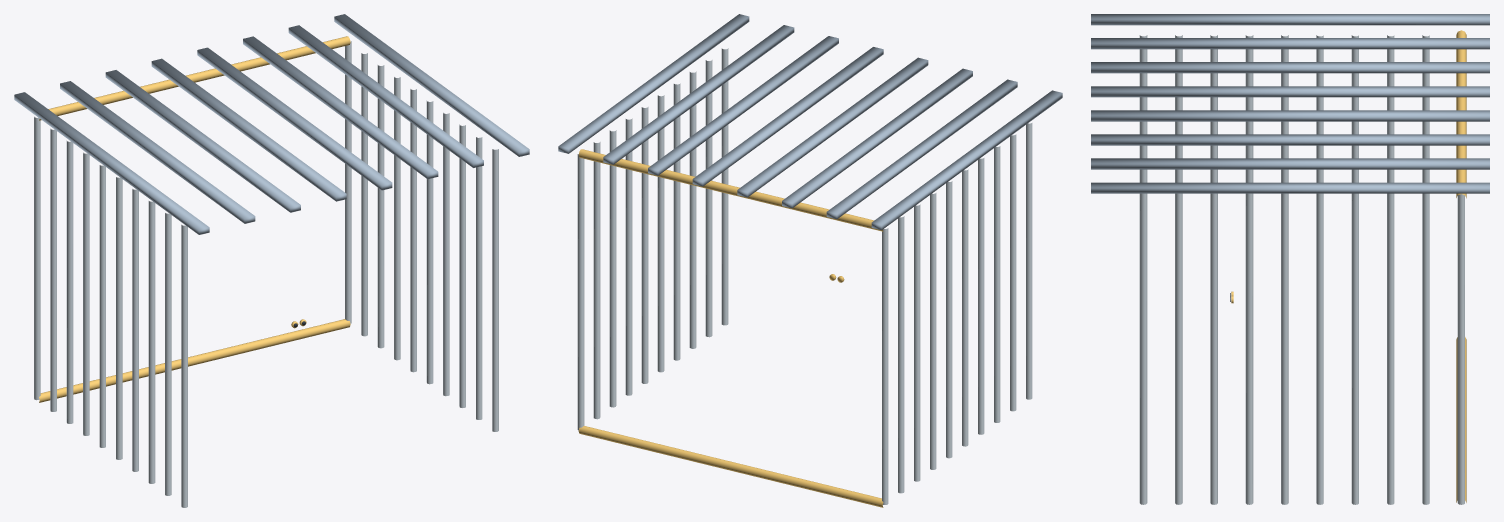
File: 08_L89_WaterWallStructuralContainmentFrame.glb
The picture shows the model from 3 angles, left to right: view 1: azimuth 30°, elevation 25°; view 2: azimuth 150°, elevation 25°; view 3: azimuth 270°, elevation 25°; orthographic projection. The views are drawn at different scales.
Parts seen in each view (by area): view 1: L87_WaterWallStructuralContai_Part_0000, L87_WaterWallStructuralContai_Part_0003, L87_WaterWallStructuralContai_Part_0002, L87_WaterWallStructuralContai_Part_0001; view 2: L87_WaterWallStructuralContai_Part_0000, L87_WaterWallStructuralContai_Part_0003, L87_WaterWallStructuralContai_Part_0002, L87_WaterWallStructuralContai_Part_0001; view 3: L87_WaterWallStructuralContai_Part_0003, L87_WaterWallStructuralContai_Part_0000, L87_WaterWallStructuralContai_Part_0001, L87_WaterWallStructuralContai_Part_0002.
Part boxes in pixels (box(x1,y1,x2,y2)): L87_WaterWallStructuralContai_Part_0000: box(34, 41, 482, 507); L87_WaterWallStructuralContai_Part_0003: box(14, 14, 529, 234); L87_WaterWallStructuralContai_Part_0002: box(39, 36, 350, 402); L87_WaterWallStructuralContai_Part_0001: box(492, 149, 498, 431); L87_WaterWallStructuralContai_Part_0000: box(577, 60, 1032, 504); L87_WaterWallStructuralContai_Part_0003: box(558, 14, 1062, 230); L87_WaterWallStructuralContai_Part_0002: box(578, 149, 883, 507); L87_WaterWallStructuralContai_Part_0001: box(721, 48, 728, 325); L87_WaterWallStructuralContai_Part_0003: box(1091, 14, 1489, 193); L87_WaterWallStructuralContai_Part_0000: box(1139, 35, 1464, 504); L87_WaterWallStructuralContai_Part_0001: box(1139, 199, 1147, 504); L87_WaterWallStructuralContai_Part_0002: box(1456, 30, 1466, 502).
Bounding box in the file's own units: 7.23 × 6.29 × 7.
